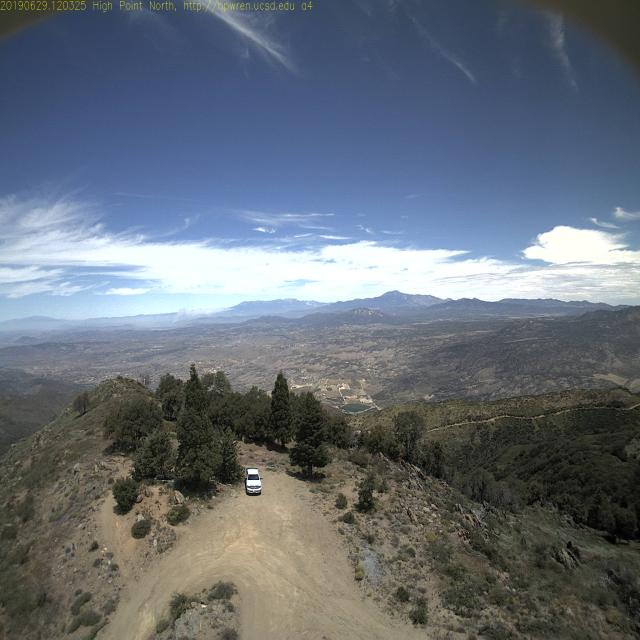smoke: (166, 300, 218, 332)
